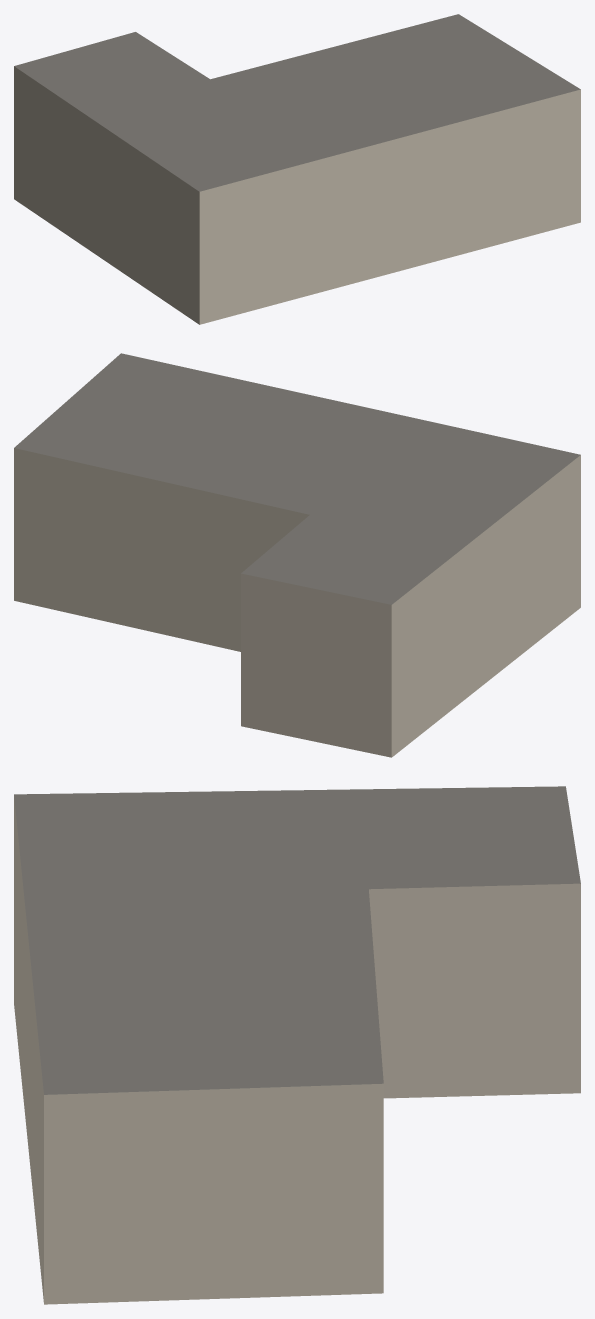
The picture shows the model from 3 angles, top to bottom: view 1: azimuth 30°, elevation 25°; view 2: azimuth 150°, elevation 25°; view 3: azimuth 270°, elevation 25°; orthographic projection. The views are drawn at different scales.
Visible parts, largest first — view 1: HP-w505641161; view 2: HP-w505641161; view 3: HP-w505641161.
Part boxes in pixels (x1,y1,x2,y2): HP-w505641161: (14, 14, 580, 324); HP-w505641161: (14, 353, 580, 757); HP-w505641161: (14, 786, 580, 1304).
Size of the model in its own units: 56.81 by 18 by 44.12.
